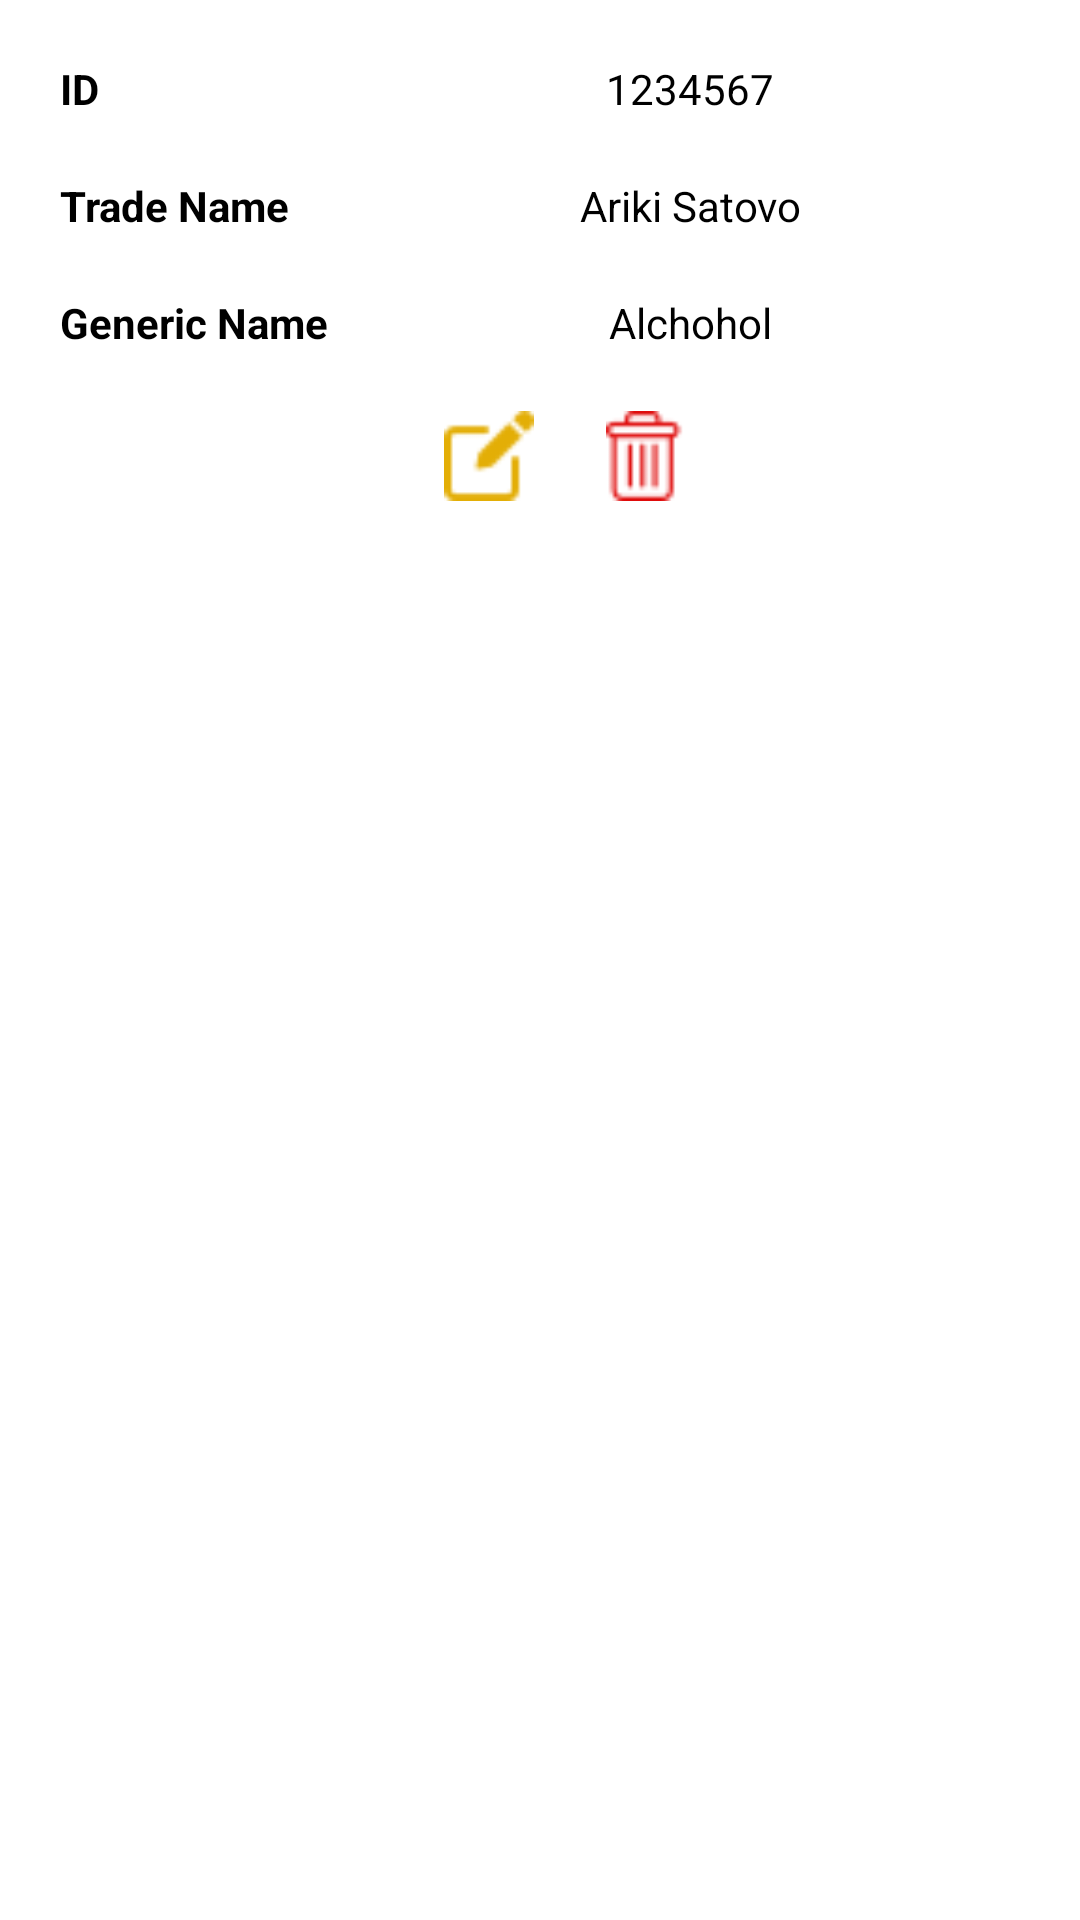

Point at icon controls on the screen. Image size 1080w x 1920h, points as (x=x, y=y).
delete: (x=644, y=456)
update: (x=489, y=456)
